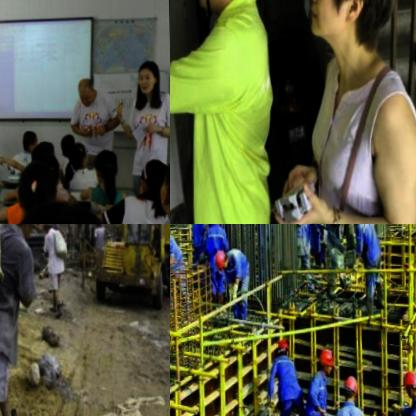head: (14, 158, 55, 219), (136, 157, 165, 199), (93, 146, 118, 185), (132, 60, 159, 96), (32, 138, 54, 171), (74, 75, 96, 106), (67, 142, 89, 172), (19, 128, 36, 155), (58, 130, 74, 155)
helmet: (340, 372, 358, 406), (316, 346, 335, 378), (402, 370, 416, 400), (213, 248, 229, 271), (275, 338, 289, 360), (38, 224, 53, 234)
